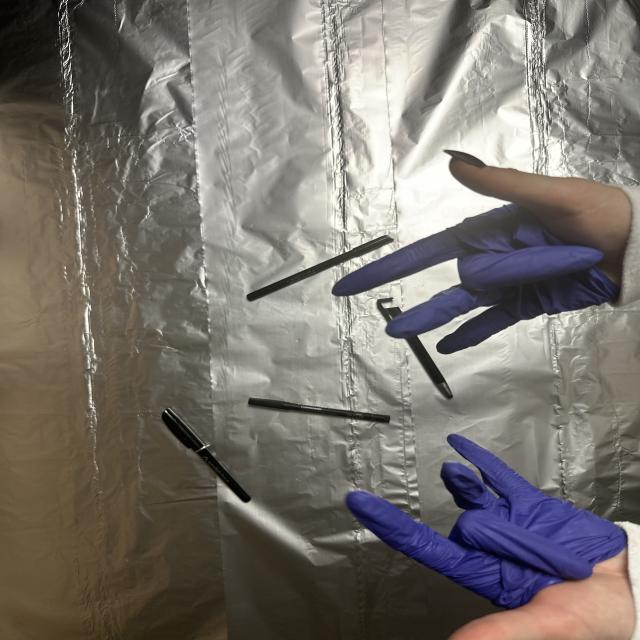glove_partial: (326, 147, 640, 355), (339, 430, 640, 640)
